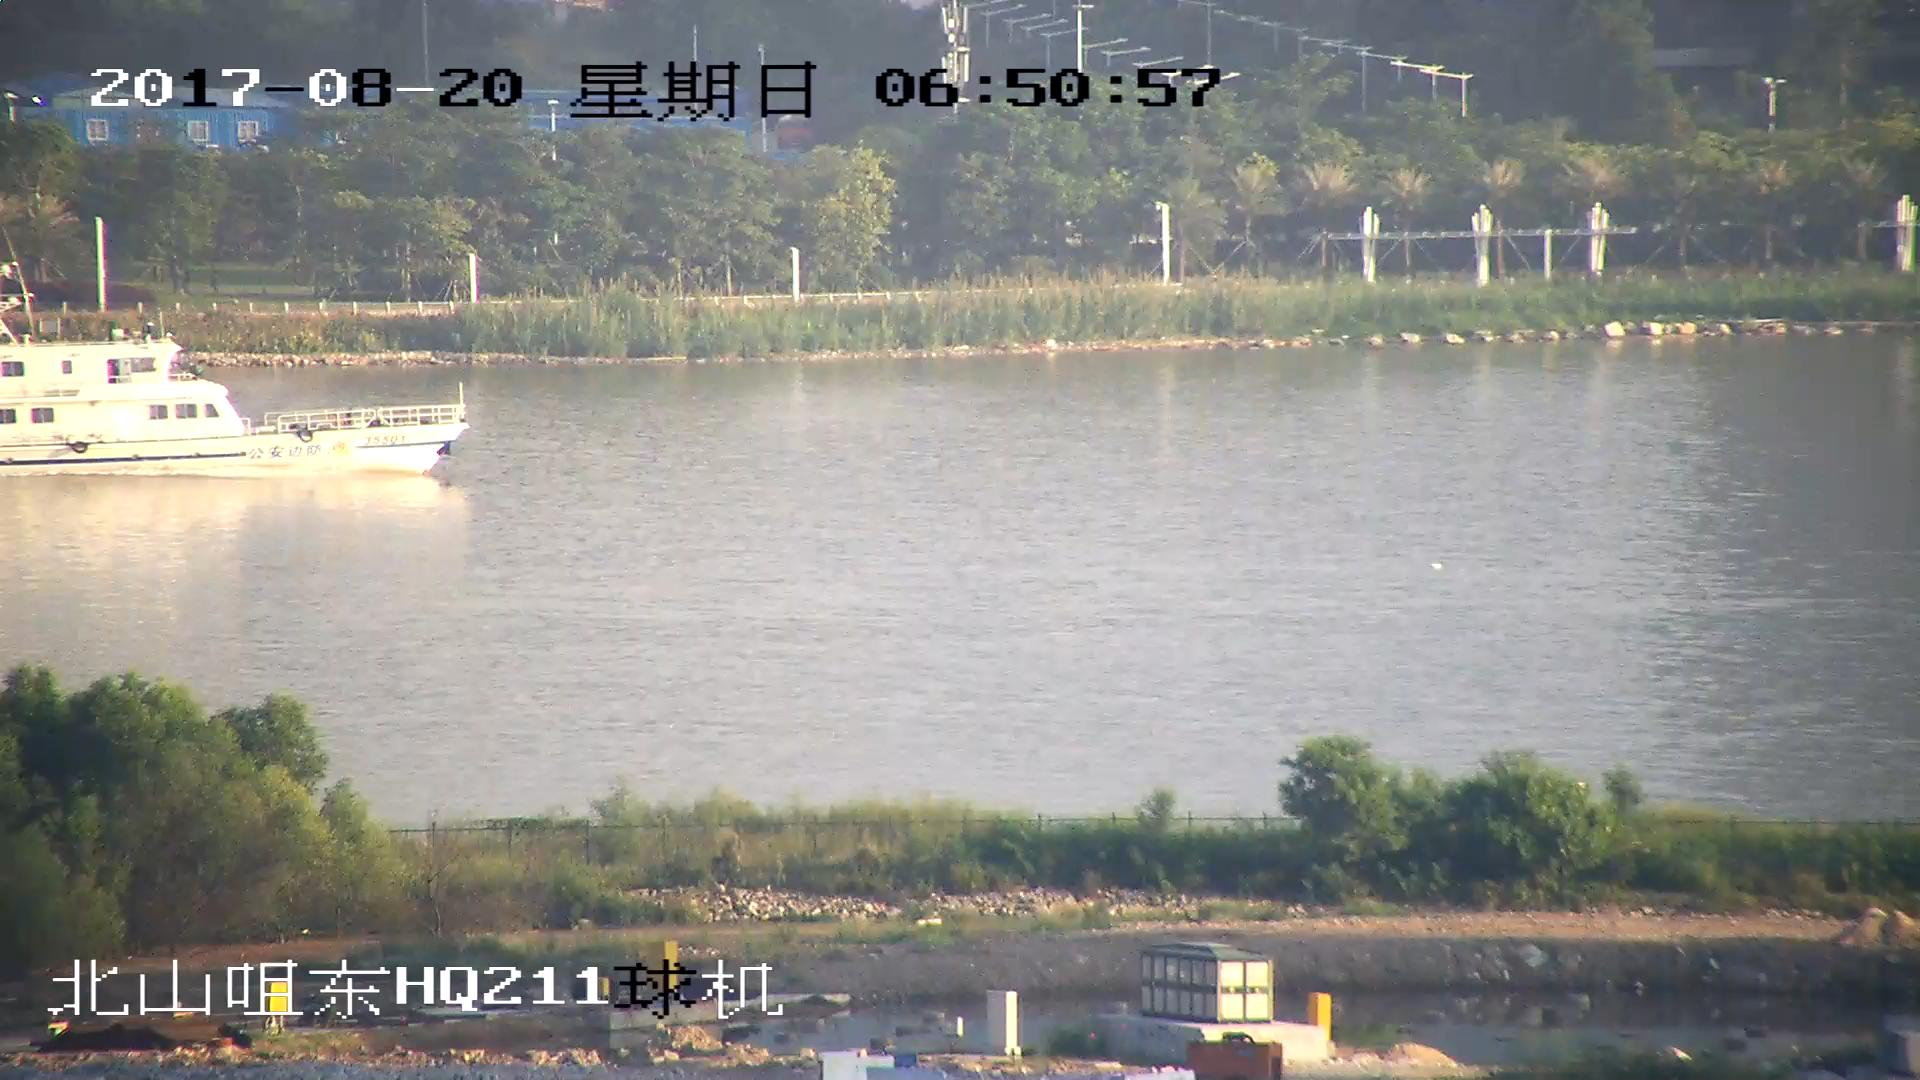passenger ship: (1, 327, 470, 484)
